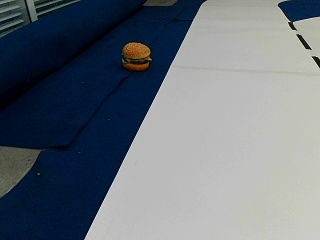burger: (121, 40, 151, 69)
